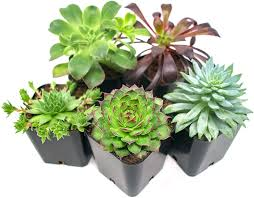plant: (172, 58, 250, 166), (90, 83, 172, 184), (48, 1, 137, 93), (5, 80, 98, 167), (129, 3, 212, 88)
